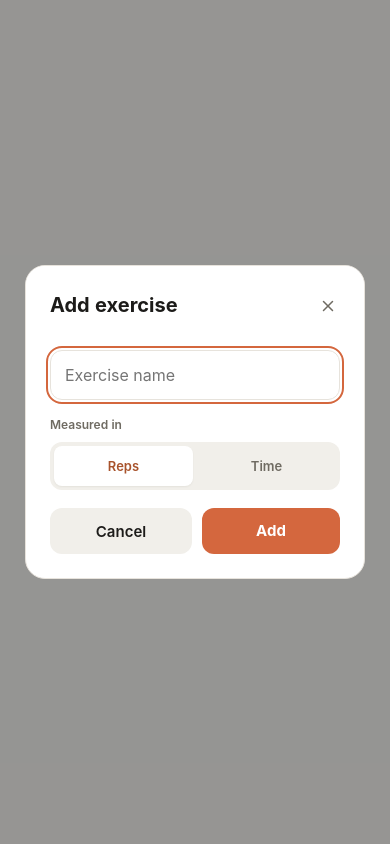
it: AddEditExerciseModal › duplicate handling › matches case-insensitively, the same way the server does
Type "bench press" into the field with placeholder "Exercise name" at (195, 375), box [50, 350, 340, 400]
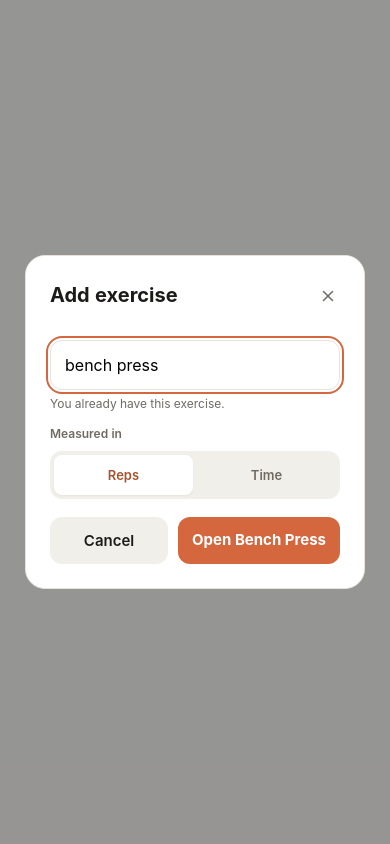
expect the button "Open Bench Press" is shown: met, box [178, 517, 340, 564]
